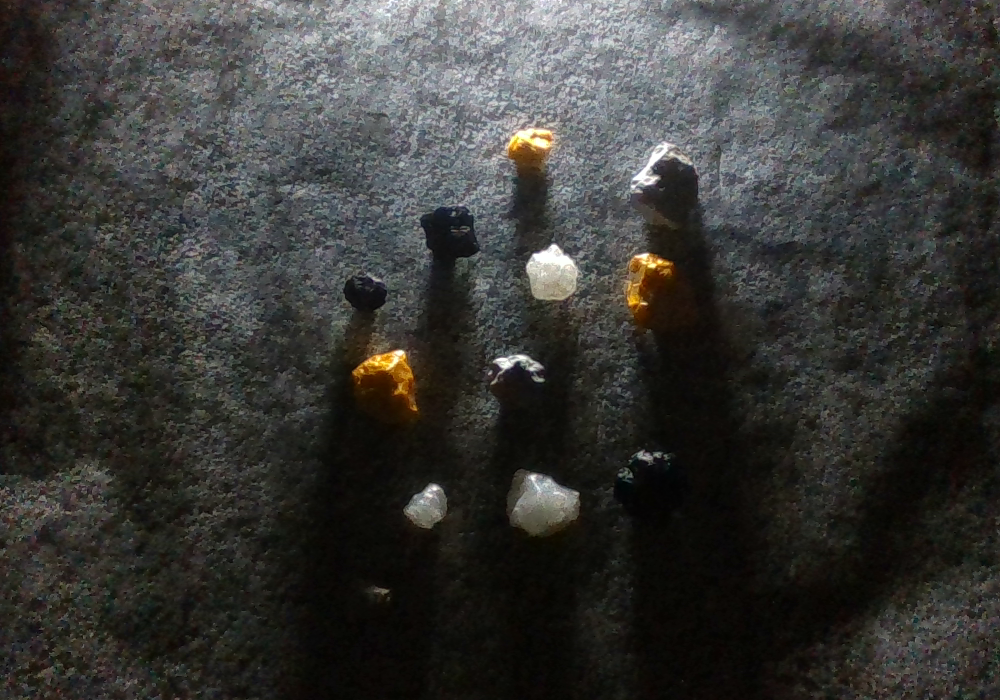anorthosite: (505, 467, 581, 538), (526, 243, 579, 302), (405, 482, 447, 529)
basalt: (613, 449, 689, 518), (421, 203, 480, 261), (343, 271, 388, 312)
metal: (624, 253, 701, 333), (352, 349, 419, 425), (507, 128, 553, 168)
regolith: (629, 140, 699, 230), (489, 354, 547, 408), (346, 578, 392, 620)
